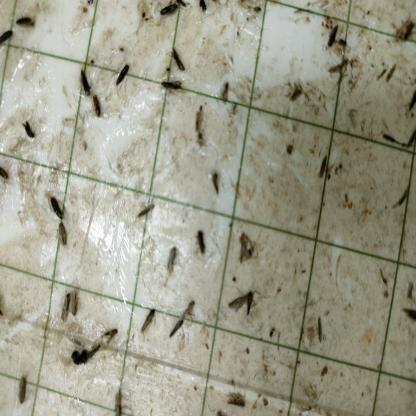prays_oleae: (235, 228, 258, 266), (160, 245, 182, 278), (240, 286, 261, 320), (158, 74, 184, 100), (315, 144, 330, 189), (312, 312, 331, 346), (192, 222, 208, 261), (14, 13, 36, 38), (165, 316, 186, 342), (133, 200, 157, 222), (400, 297, 416, 330), (170, 46, 188, 75), (139, 308, 156, 338), (77, 63, 92, 97), (46, 192, 64, 220), (209, 166, 224, 198), (226, 387, 246, 411), (324, 20, 340, 49), (14, 376, 29, 406), (59, 288, 71, 325), (100, 327, 121, 348), (22, 118, 37, 146), (70, 290, 83, 322), (114, 59, 131, 83), (184, 296, 198, 324), (90, 92, 103, 122), (56, 225, 70, 250), (0, 25, 12, 53), (111, 389, 124, 412), (192, 104, 205, 127), (0, 160, 9, 189), (220, 83, 229, 105)
